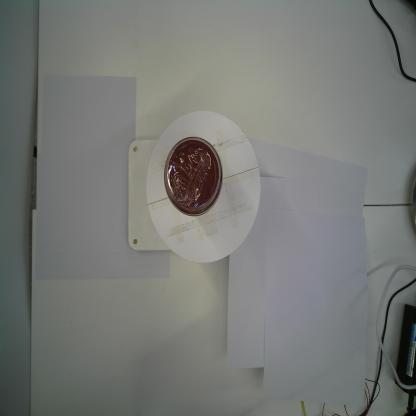Instant Drink: (161, 135, 226, 221)
